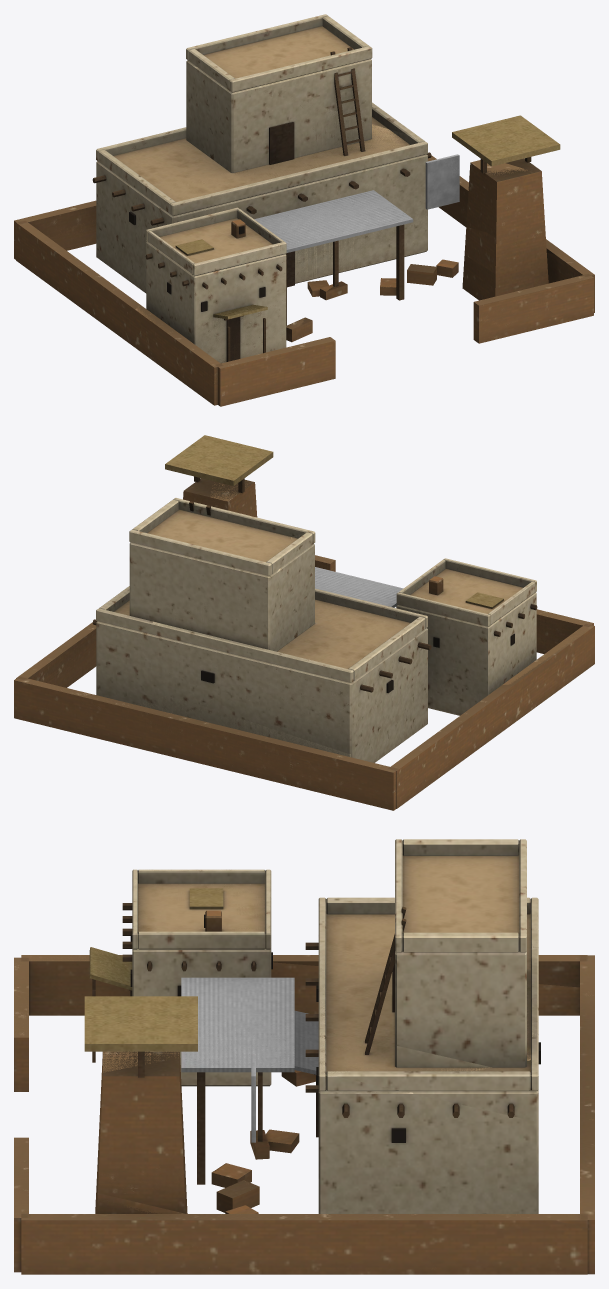
The model's file is civic-bronze.glb.
3 renders of one model, top to bottom at view 1: azimuth 30°, elevation 25°; view 2: azimuth 150°, elevation 25°; view 3: azimuth 270°, elevation 25°, orthographic. The views are drawn at different scales.
Visible parts, largest first — view 1: LOD0.001, LOD0, LOD0.002; view 2: LOD0, LOD0.001, LOD0.002; view 3: LOD0, LOD0.001, LOD0.002.
Boxes of the visible parts, <box> form: LOD0.001: <box>16,64,593,406</box>; LOD0: <box>14,14,594,406</box>; LOD0.002: <box>14,216,594,405</box>; LOD0: <box>14,435,594,810</box>; LOD0.001: <box>14,451,594,809</box>; LOD0.002: <box>120,555,593,810</box>; LOD0: <box>14,839,594,1274</box>; LOD0.001: <box>14,839,594,1274</box>; LOD0.002: <box>14,955,593,1213</box>.
Size of what is drawn, in the model's own units: 1.89 by 0.92 by 1.75.
Materials: 2 (2 with a texture image).
